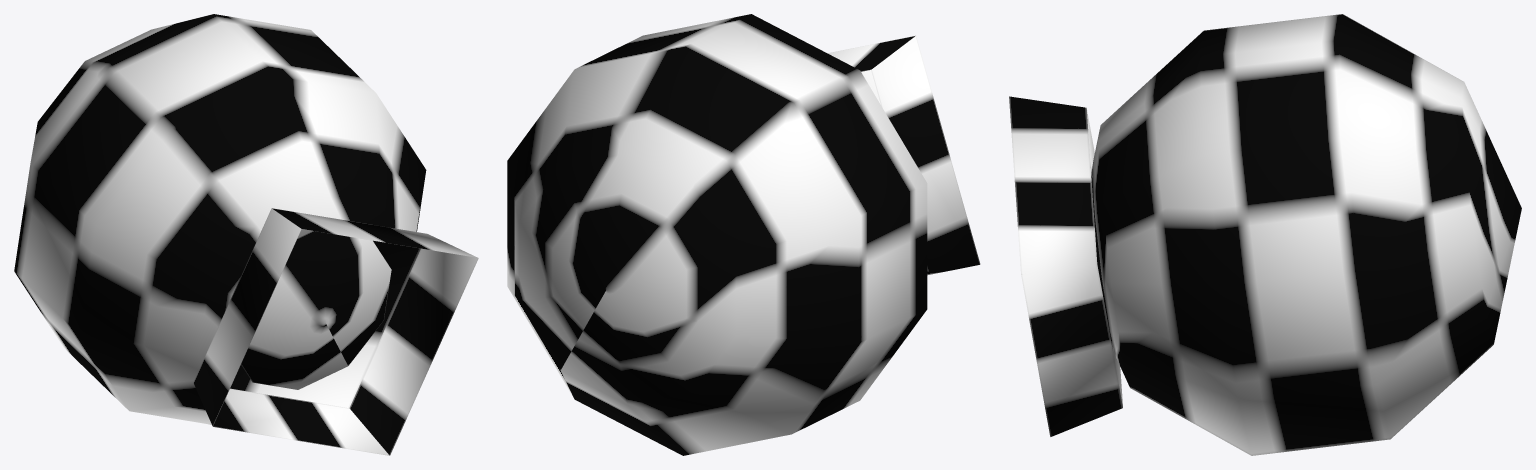
Rendered from initqu7.dae.
The picture shows the model from 3 angles, left to right: view 1: azimuth 30°, elevation 25°; view 2: azimuth 150°, elevation 25°; view 3: azimuth 270°, elevation 25°; orthographic projection. The views are drawn at different scales.
Parts seen in each view (by area): view 1: item; view 2: item; view 3: item.
Boxes of the visible parts, bbox=[...] form: item: bbox=[14, 14, 478, 455]; item: bbox=[507, 14, 980, 455]; item: bbox=[1009, 14, 1521, 455].
Size of the model in its own units: 1.25 by 1.53 by 1.33.
Materials: 1 (1 with a texture image).
